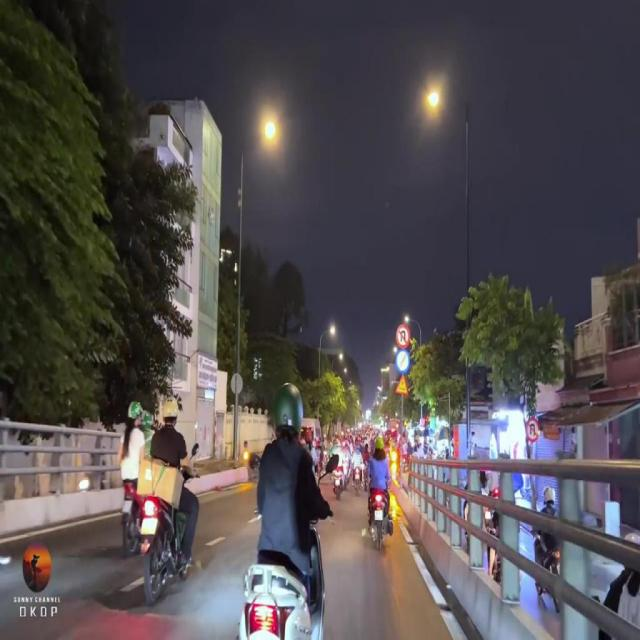cam_quay_dau_xe: (524, 417, 540, 442), (396, 323, 410, 349)
di_cham: (394, 377, 408, 394)
khac: (396, 348, 410, 372)
